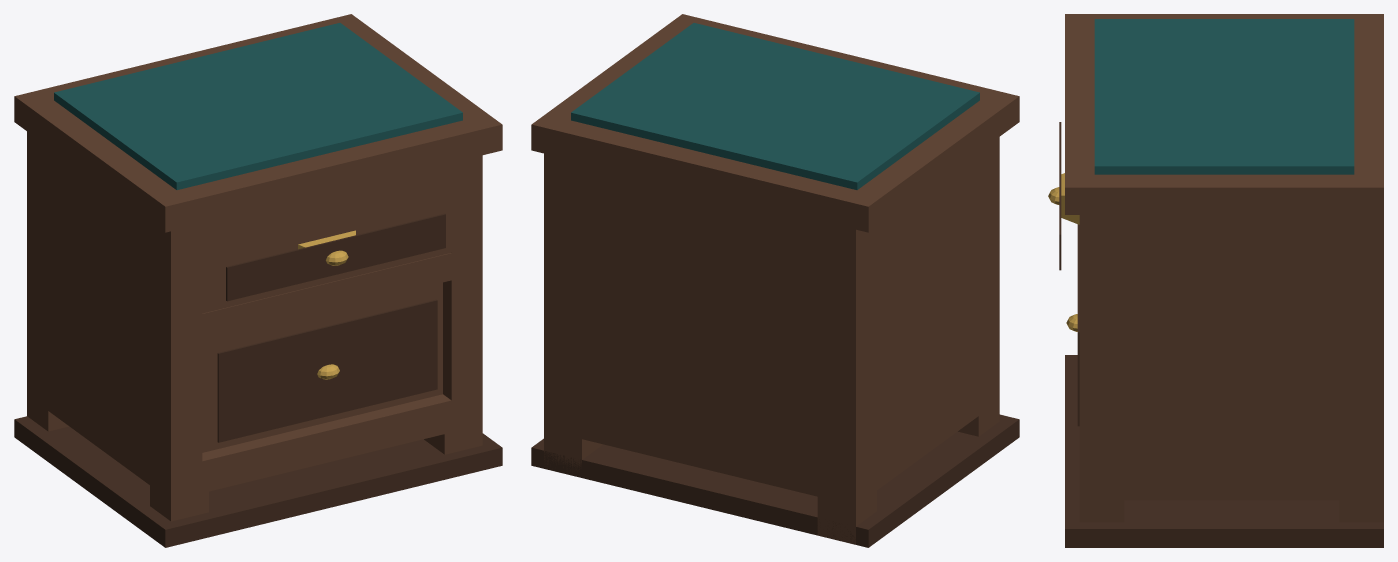
Rendered from cabinetBedDrawer.glb.
3 views of the same model, side by side, from view 1: azimuth 30°, elevation 25°; view 2: azimuth 150°, elevation 25°; view 3: azimuth 270°, elevation 25° (orthographic). The views are drawn at different scales.
Parts seen in each view (by area): view 1: cabinetBedDrawer(Clone), door, drawer; view 2: cabinetBedDrawer(Clone); view 3: cabinetBedDrawer(Clone), drawer, door.
Part boxes in pixels (x1=…): cabinetBedDrawer(Clone): x1=14, y1=14, x2=502, y2=547; door: x1=202, y1=282, x2=442, y2=452; drawer: x1=202, y1=188, x2=451, y2=313; cabinetBedDrawer(Clone): x1=531, y1=14, x2=1019, y2=547; cabinetBedDrawer(Clone): x1=1065, y1=14, x2=1383, y2=547; drawer: x1=1048, y1=122, x2=1079, y2=270; door: x1=1066, y1=224, x2=1079, y2=426.
Bounding box in the file's own units: 0.266 × 0.2632 × 0.2173.
